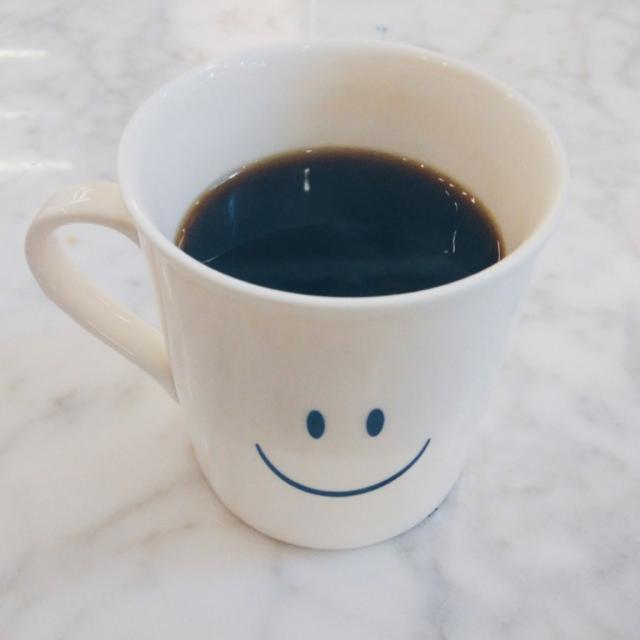Coffee: (173, 150, 509, 304)
Tea: (174, 147, 503, 298)
